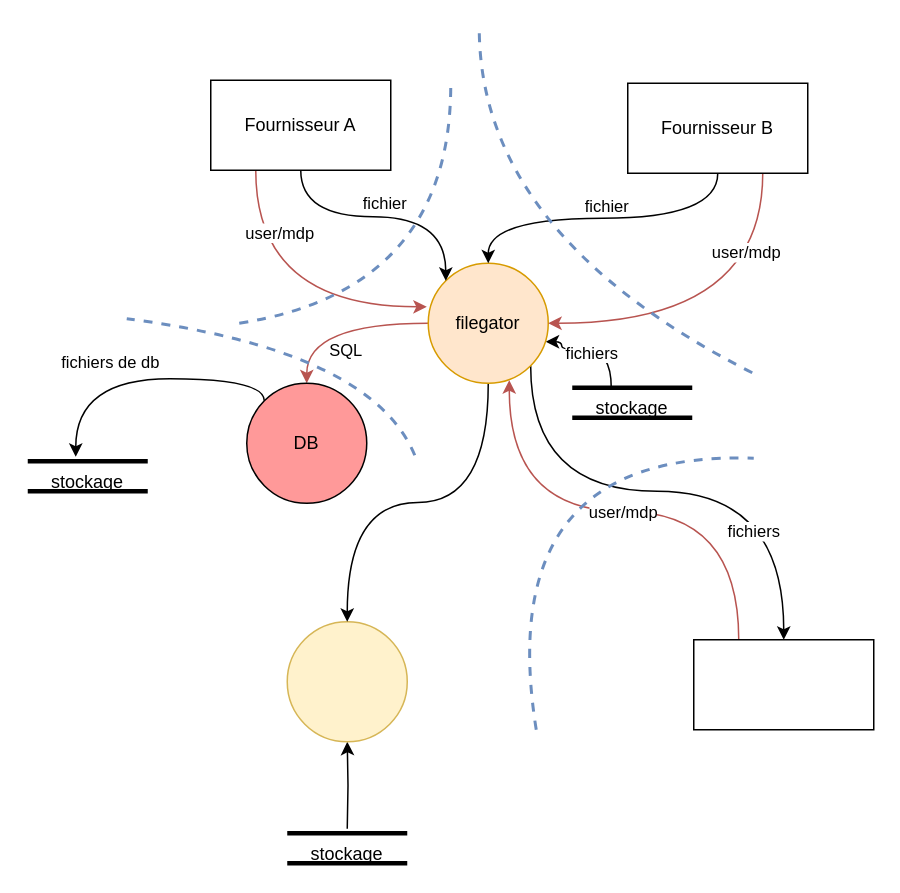
This 900x893 diagram has some shape labels left out. Here are the shapes that lost their labels. From the top down, the box of each, then its label:
(286, 620, 407, 742): backup (sftp)
(692, 638, 874, 730): Utilisateur interne
